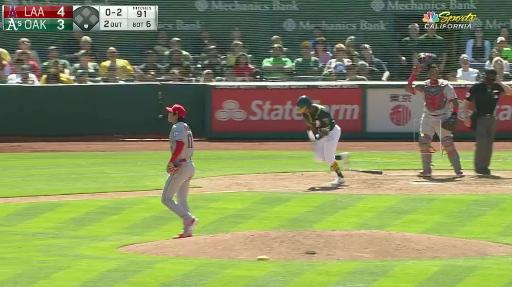pitcher: (164, 105, 203, 238)
